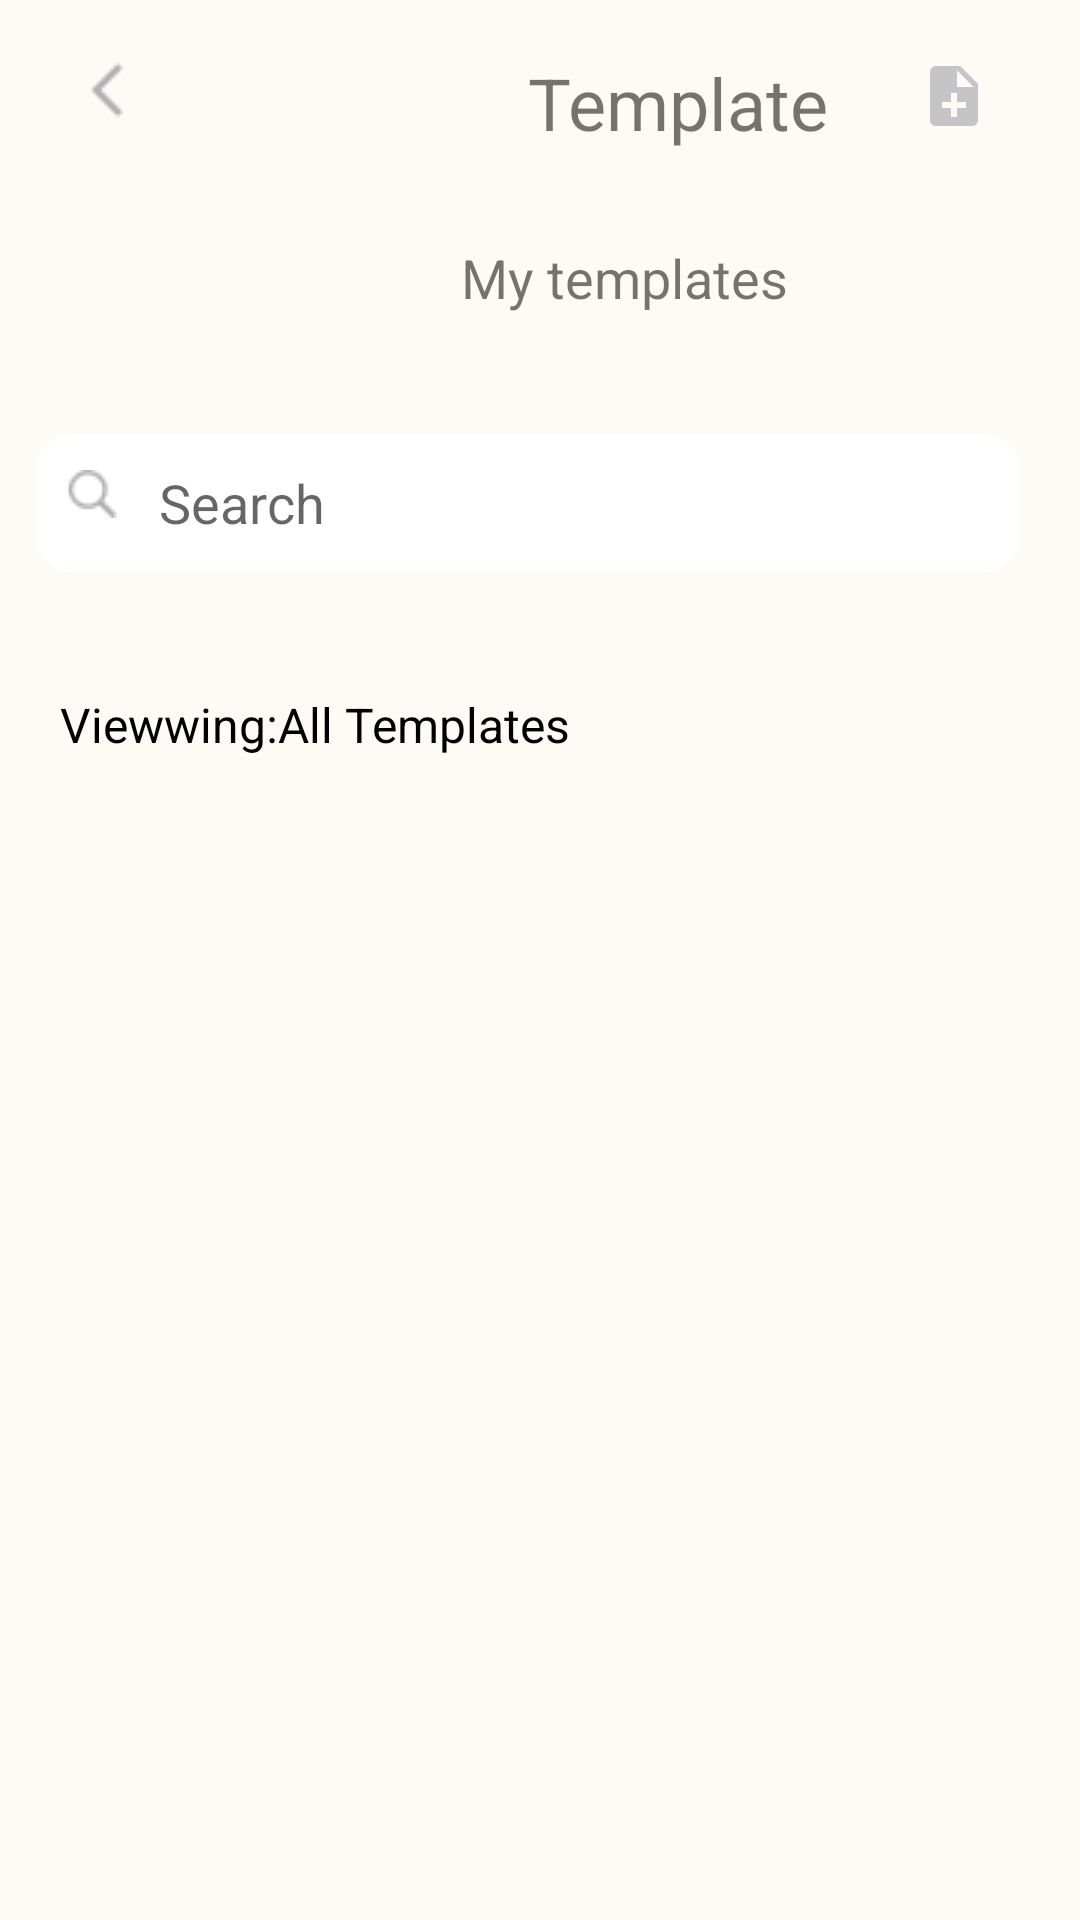

Where icons sit on this 1080w x 1920h app screen, as region(x1, y1, x2, y2):
add notes: region(930, 66, 978, 126)
back: region(92, 64, 122, 116)
